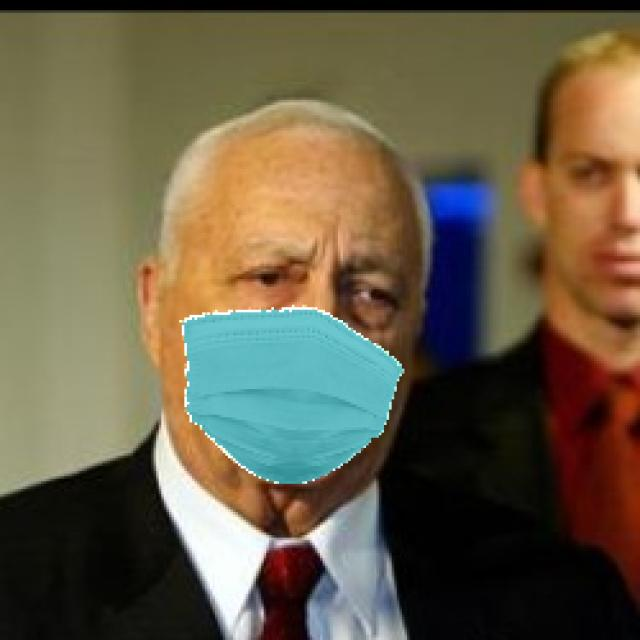mask: (165, 286, 433, 482)
